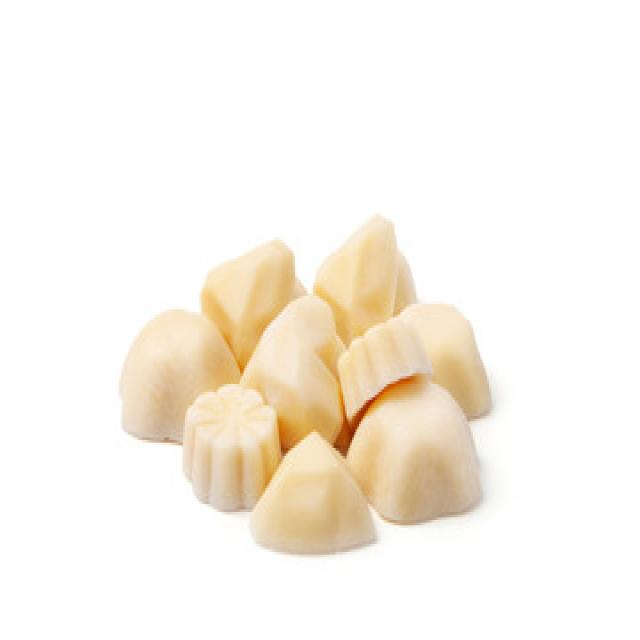Chocolate: (117, 218, 491, 549)
